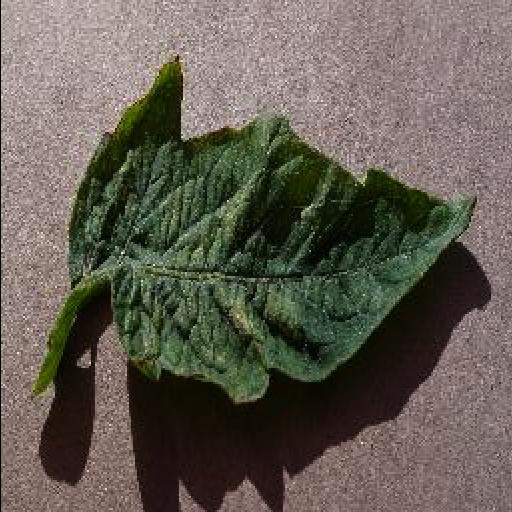disease_tomato: (70, 54, 480, 408)
